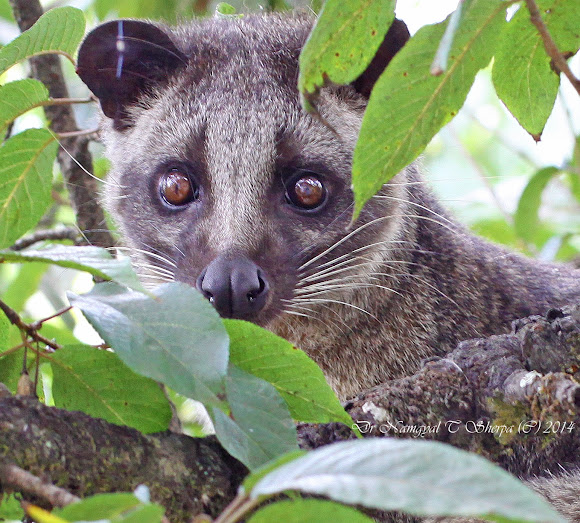Civet: (54, 8, 461, 332)
